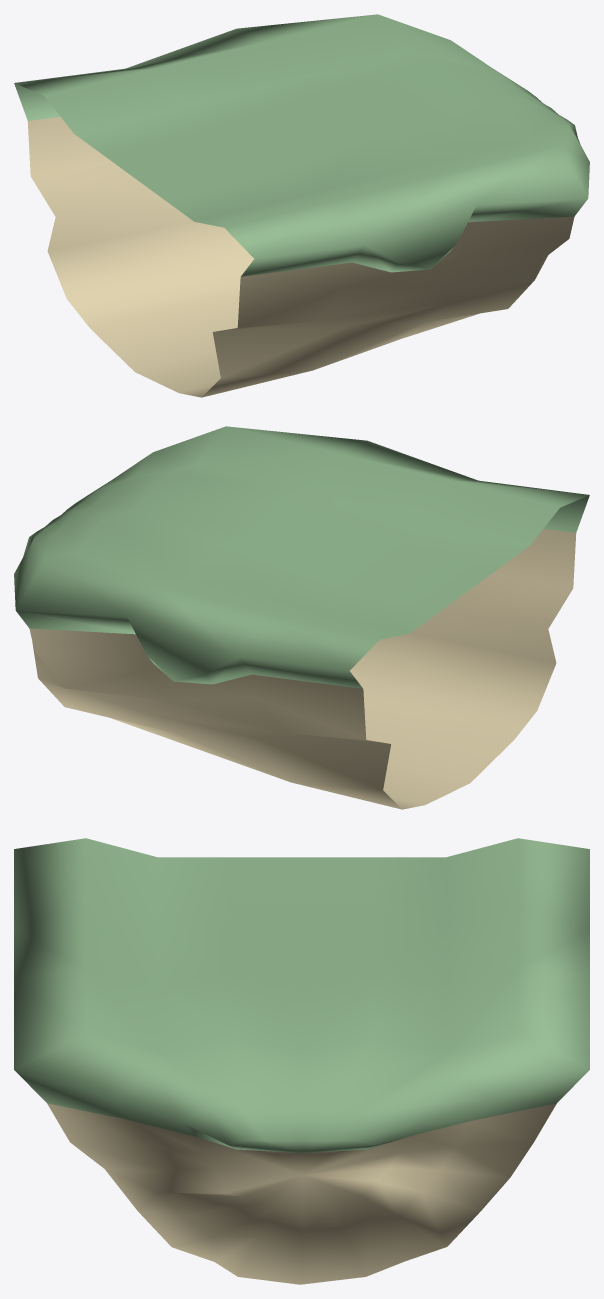
Rendered from Grass_Platform_end.fbx.
The picture shows the model from 3 angles, top to bottom: view 1: azimuth 30°, elevation 25°; view 2: azimuth 150°, elevation 25°; view 3: azimuth 270°, elevation 25°; orthographic projection. The views are drawn at different scales.
Parts seen in each view (by area): view 1: Cube.001; view 2: Cube.001; view 3: Cube.001.
Part boxes in pixels (x1,y1,x2,y2): Cube.001: (14, 14, 589, 397); Cube.001: (14, 426, 589, 809); Cube.001: (14, 838, 589, 1284).
Size of the model in its own units: 2 by 0.96 by 1.99.
